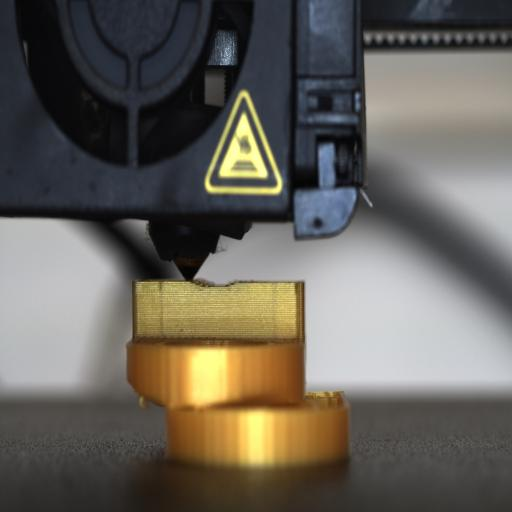layer_shift: (131, 386, 352, 416)
